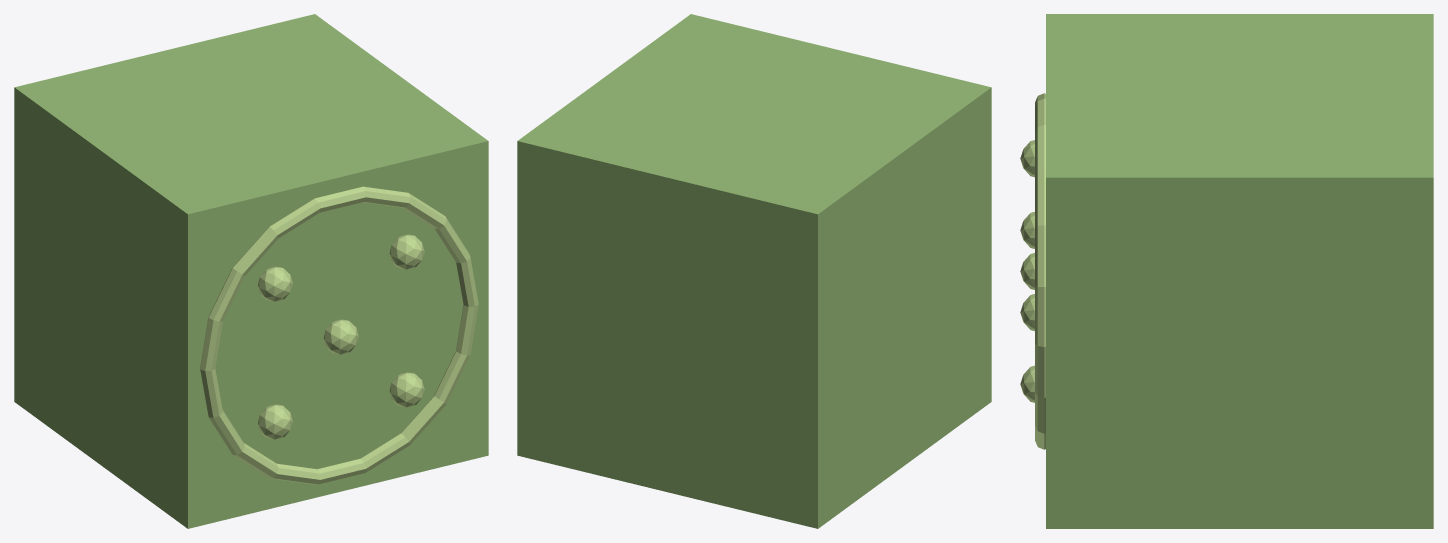
File: holz.glb
3 views of the same model, side by side, from view 1: azimuth 30°, elevation 25°; view 2: azimuth 150°, elevation 25°; view 3: azimuth 270°, elevation 25° (orthographic). The views are drawn at different scales.
Visible parts, largest first — view 1: world; view 2: world; view 3: world.
Part boxes in pixels (bbox=[...]): world: bbox=[14, 14, 488, 528]; world: bbox=[517, 14, 991, 528]; world: bbox=[1020, 14, 1433, 528].
Bounding box in the file's own units: 1.05 × 1.05 × 1.12.
